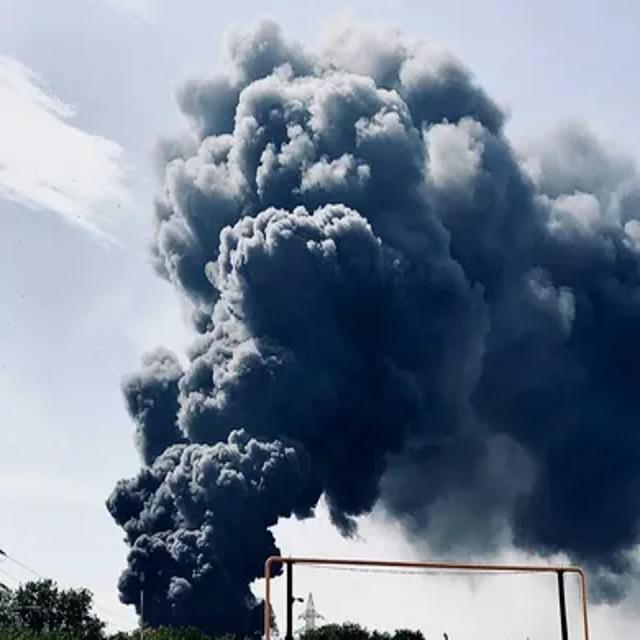Smoke: (107, 21, 640, 610)
